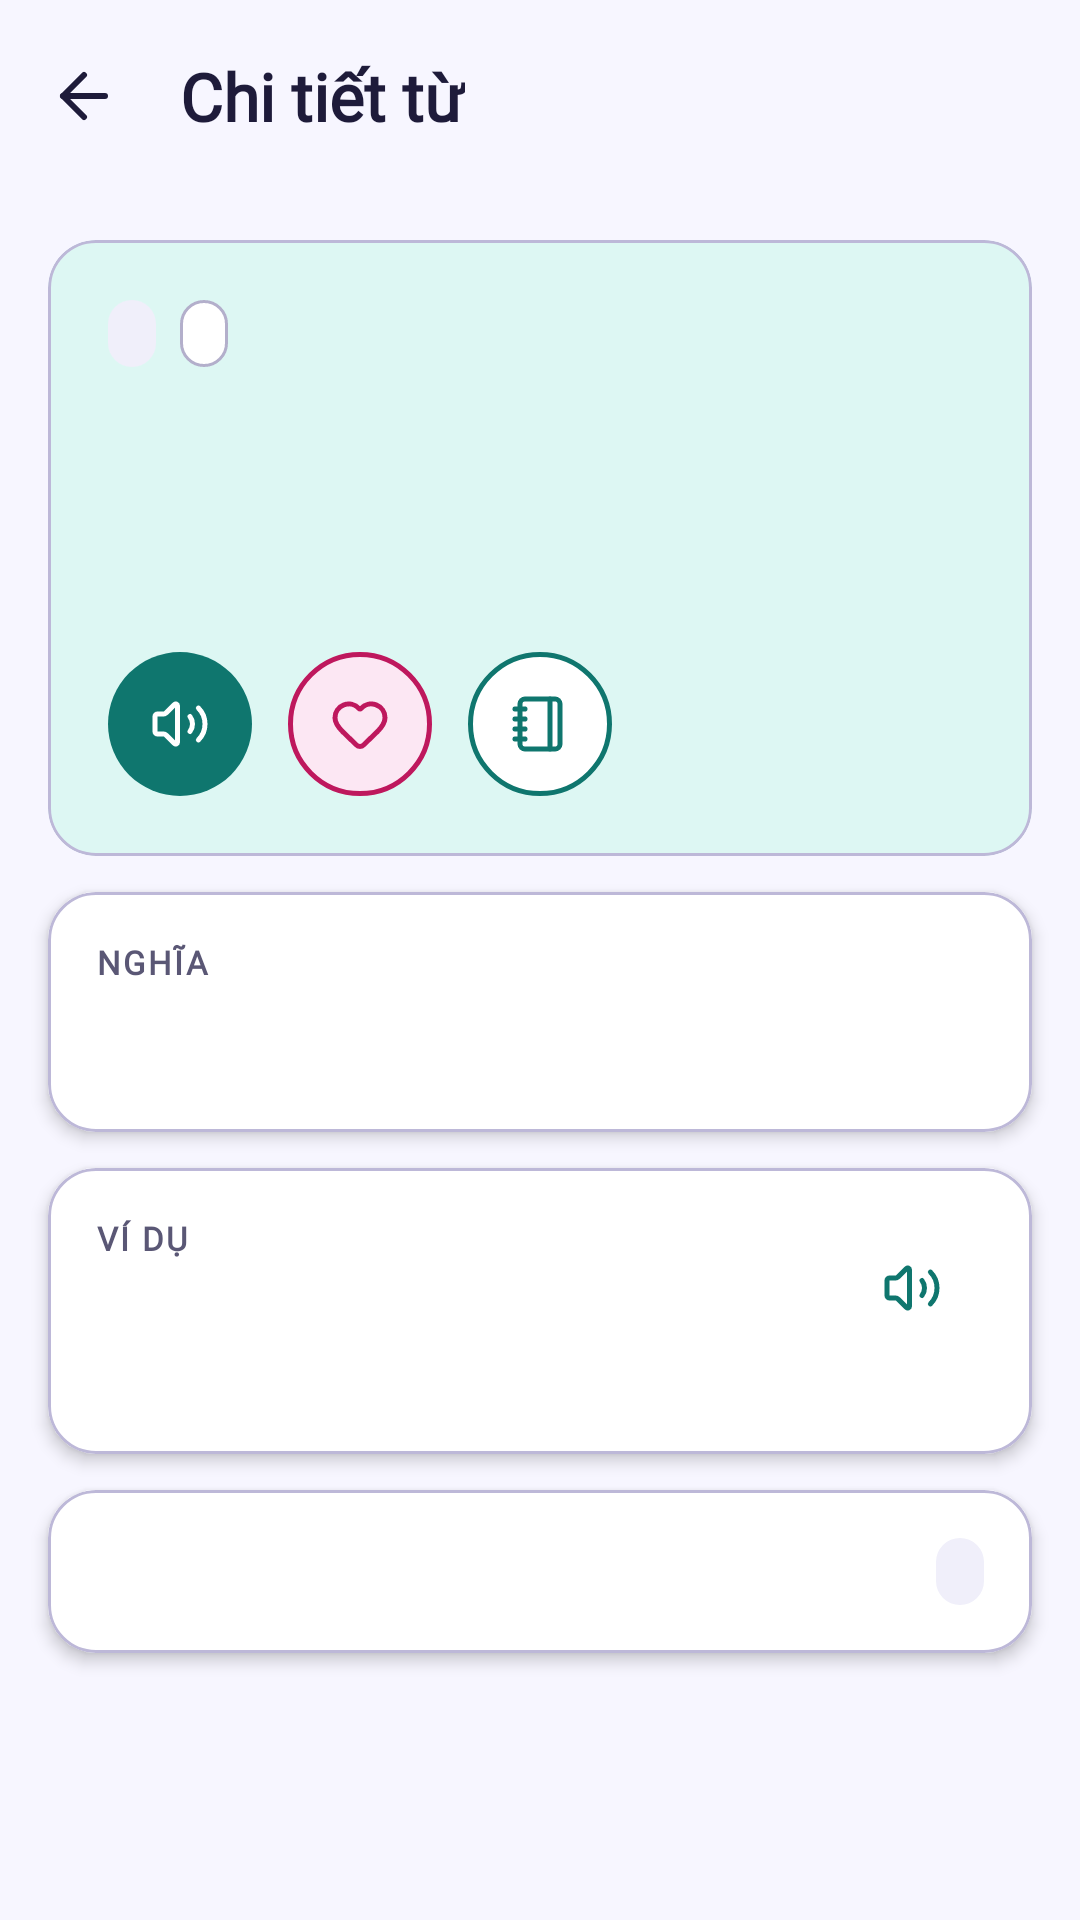

Screen size 1080px x 1920px. Icon name, then its box in pixels as (x1, y1, x2, y2):
Lưu vào bộ: (468, 652, 612, 796)
Phát âm: (108, 652, 252, 796)
Phát âm câu ví dụ: (884, 1265, 940, 1311)
Yêu thích: (288, 652, 432, 796)
